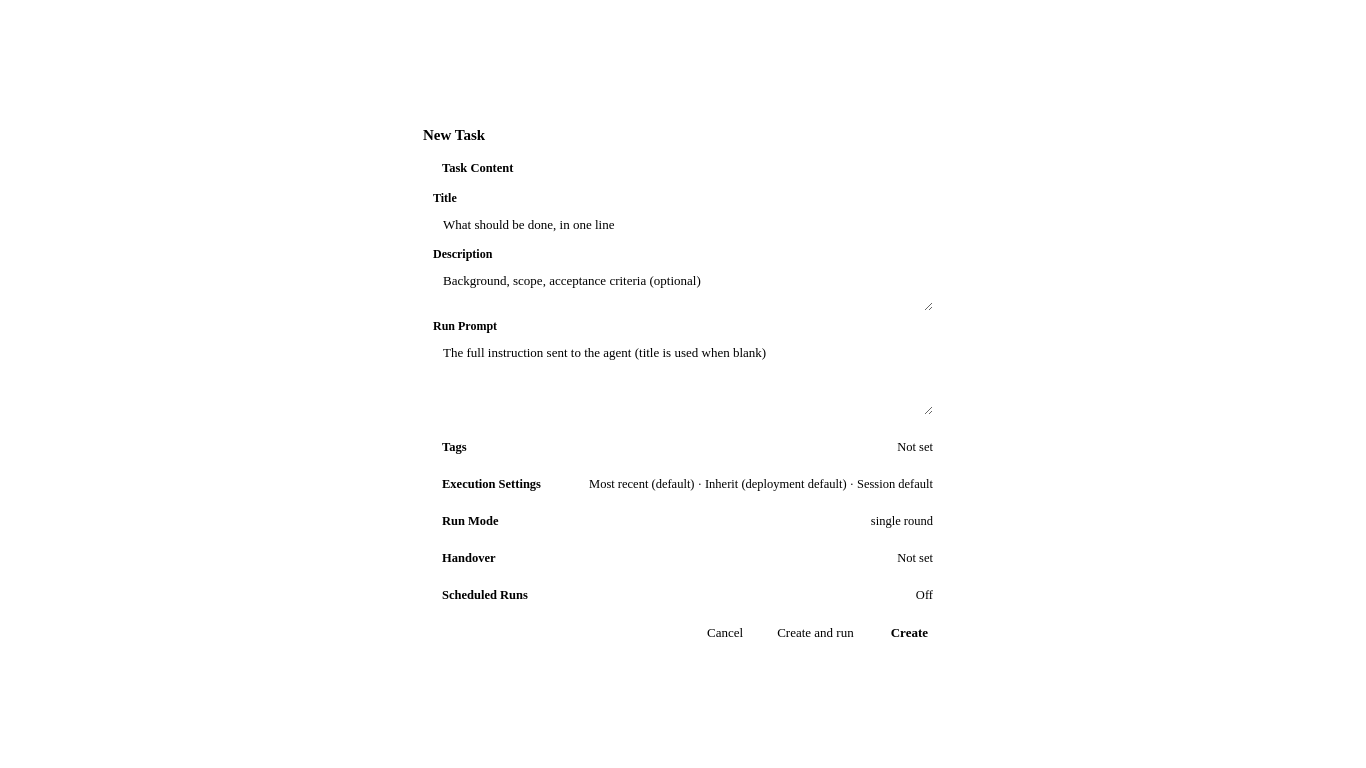
Test: new-task "create and run" (#1621) › user reading the collapsed run summary with the GLOBAL switch off is told this card will run a plain turn
Click the button "Run Mode single round". click: (470, 520)
box: [423,506,943,536]
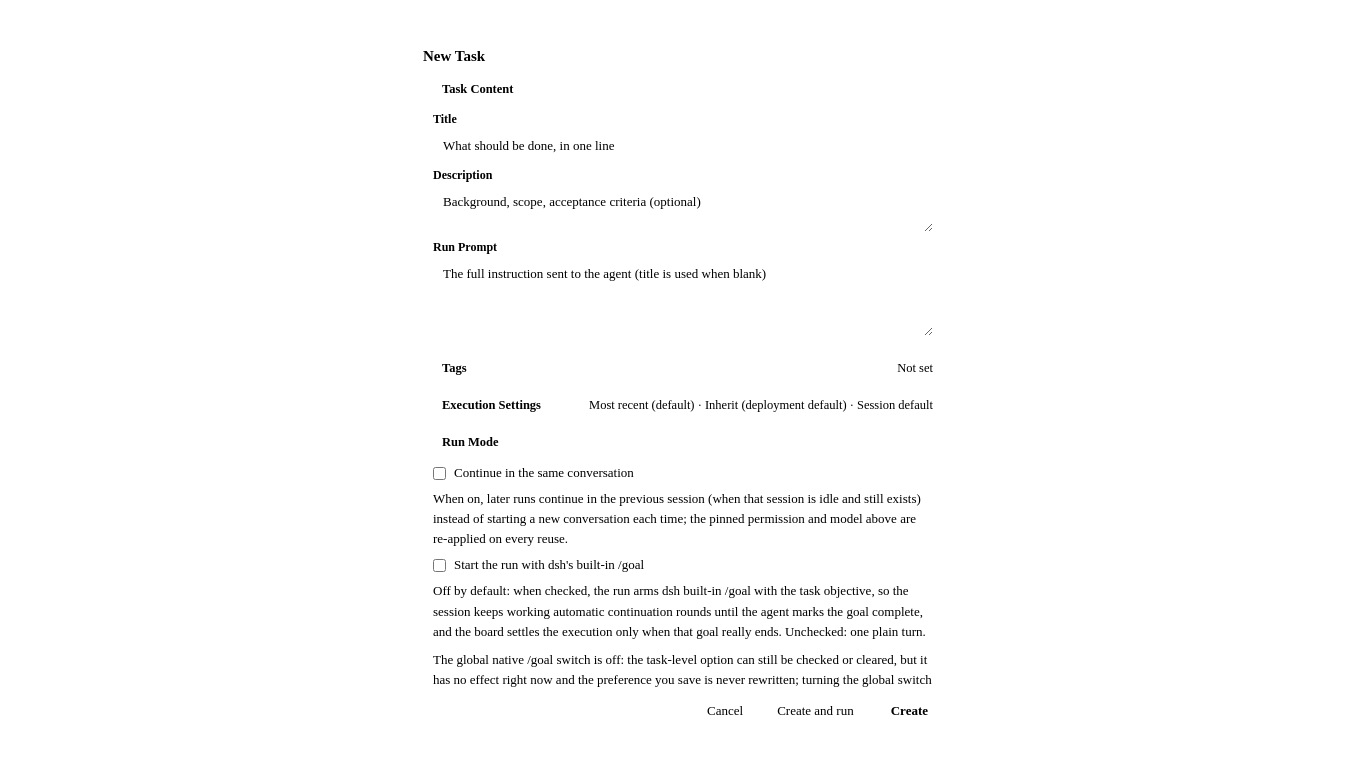
Click the checkbox labelled "Start the run with dsh's built-in /goal". click: (440, 565)
box: [433,559,446,572]
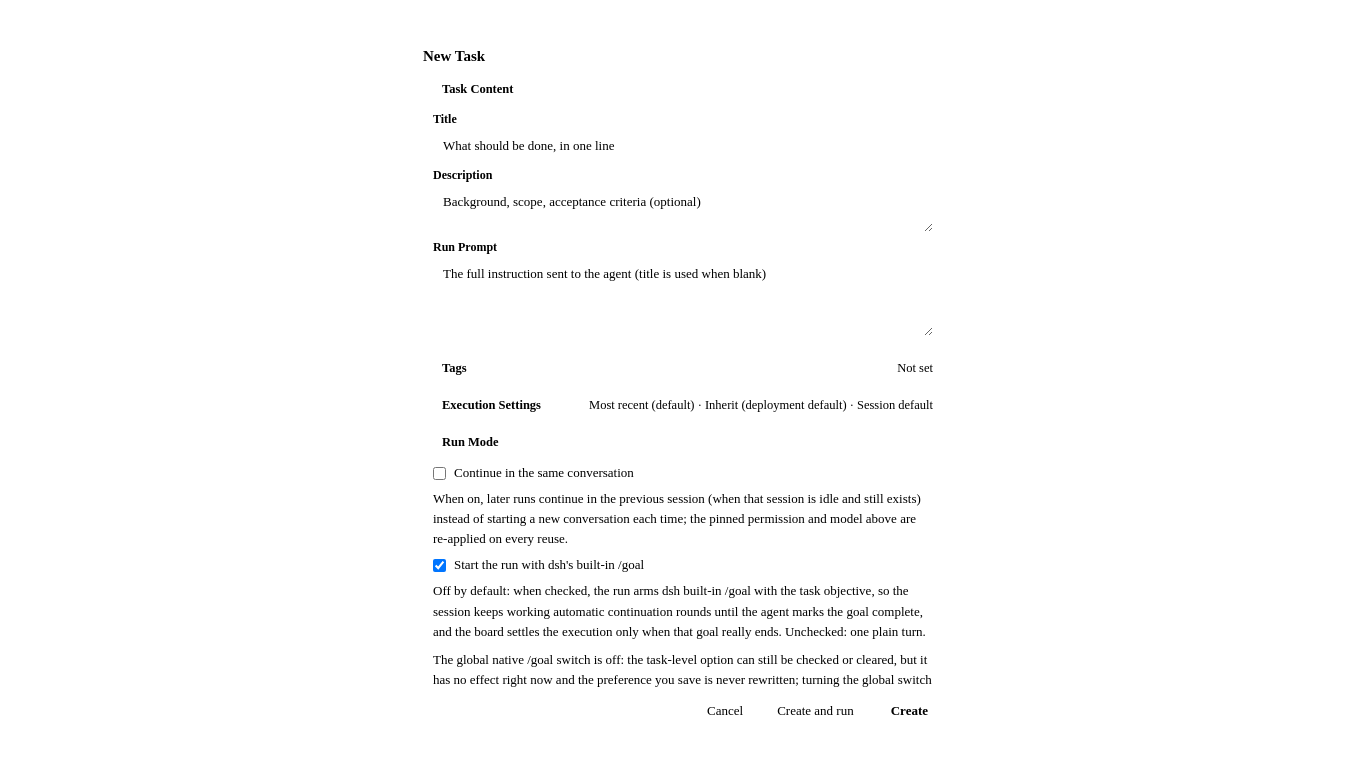
Click the button "Run Mode". click: (470, 442)
box: [423,428,943,457]
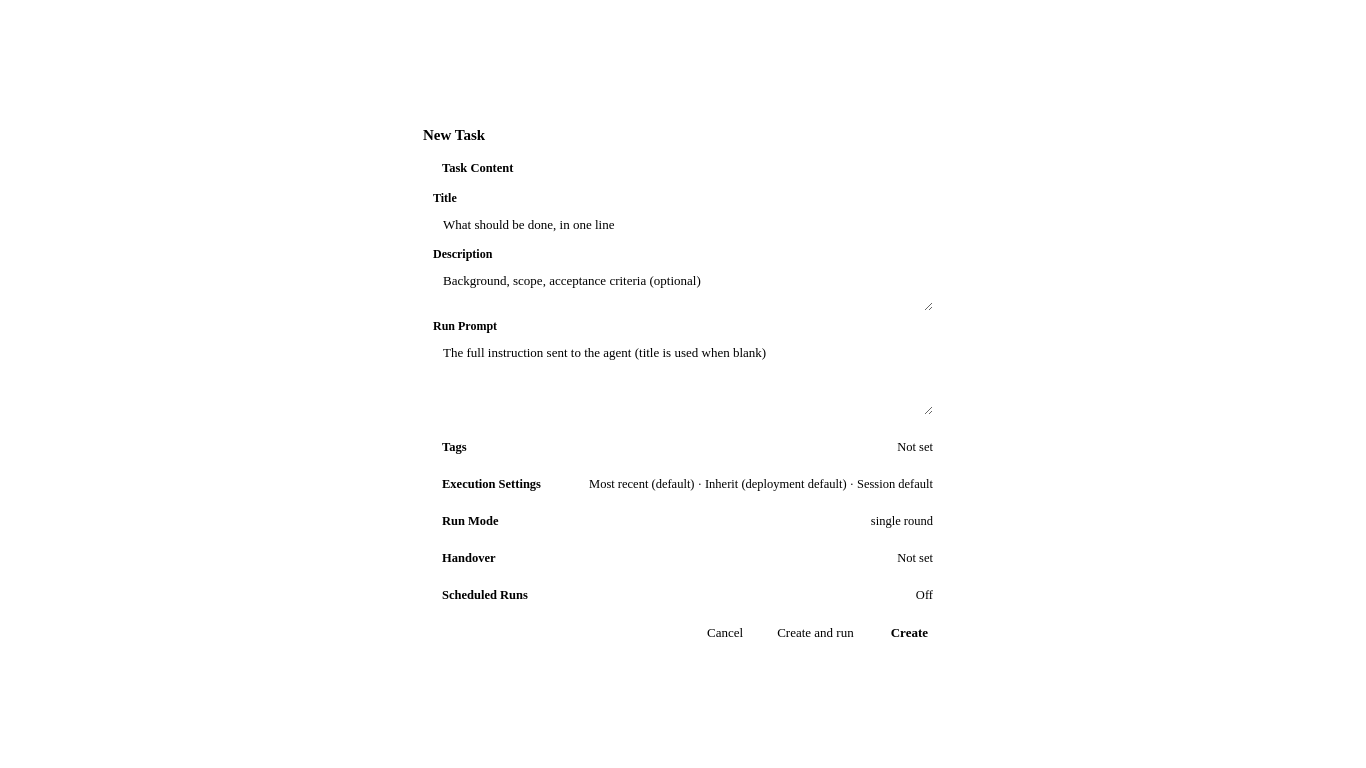
Check: the button "Run Mode single round" is shown, box [423,506,943,536]
